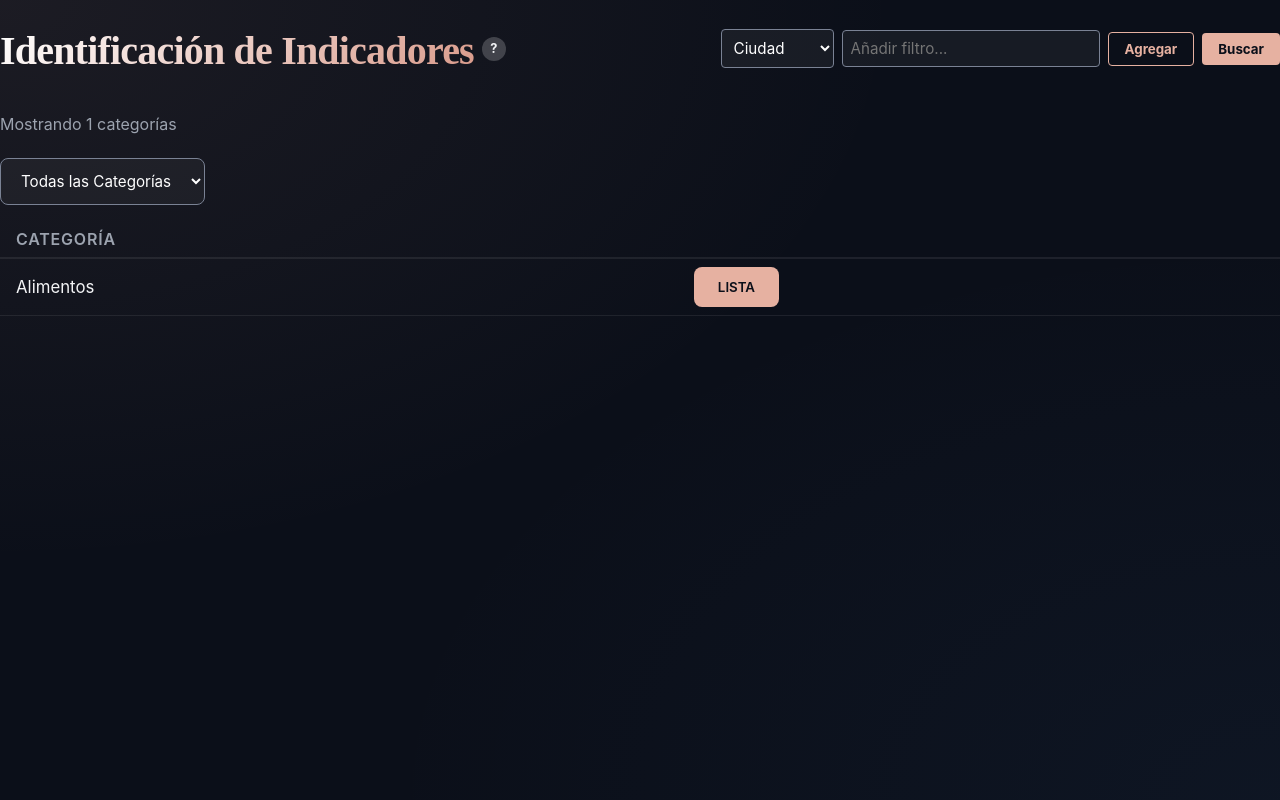
Test: Indicadores: sigla en vez de número de registro › el botón muestra la sigla y no el número, y abre los detalles sin consultas
The width and height of the screenshot is (1280, 800).
What coordinates should you click on to do the following:
click the button "LISTA"
I would click on:
 (736, 287)
Its box is [694,267,779,307].
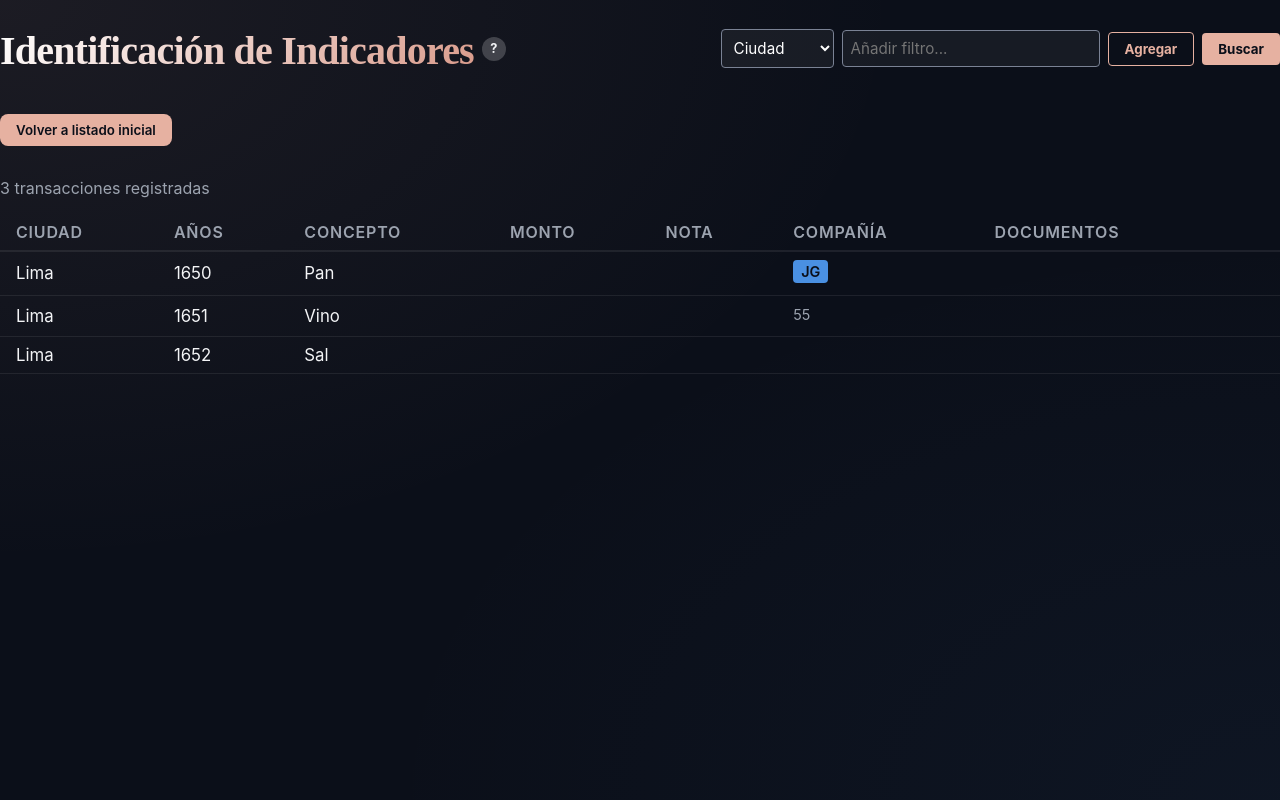
What coordinates should you click on to do the following:
click the button "JG"
I would click on:
 (811, 272)
Its box is [793,260,828,283].
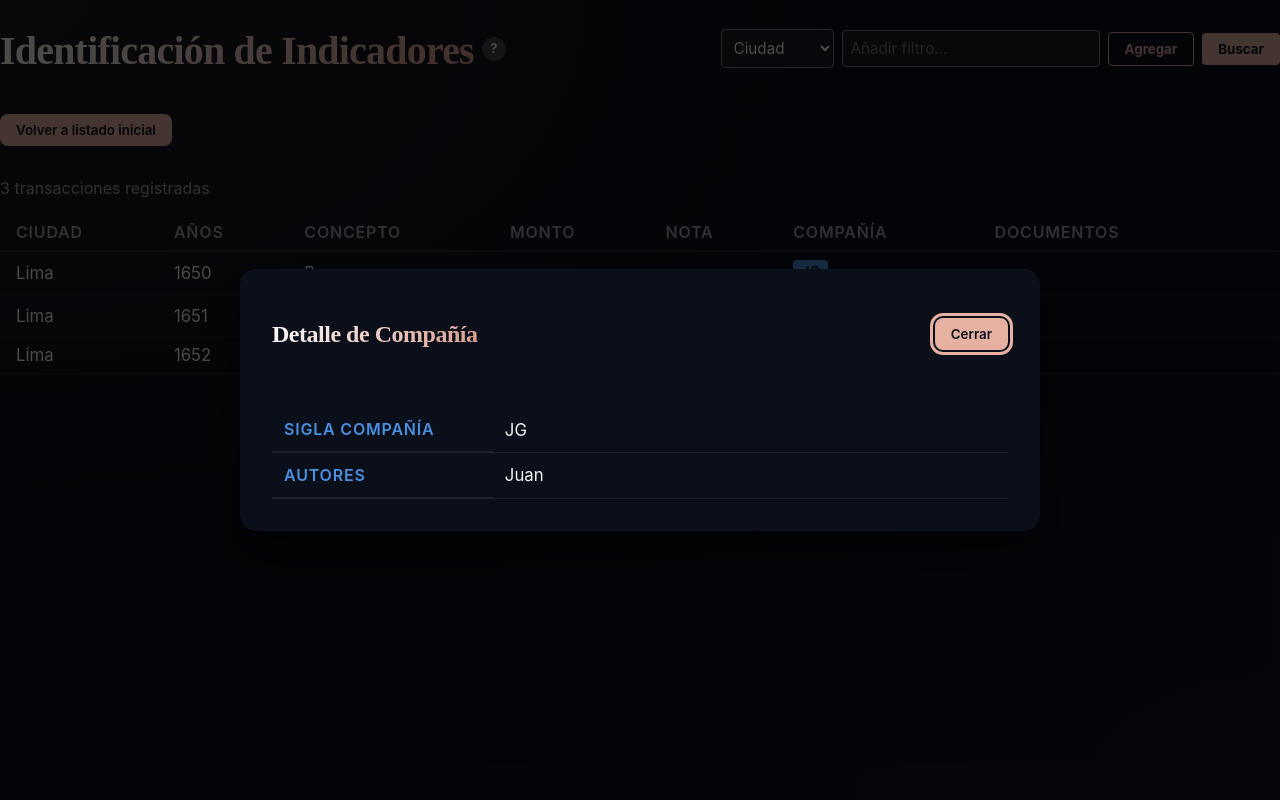
Expected: the heading "Detalle de Compañía" is shown, [272,320,478,348]
Expected: the text "Juan" is shown, [493,452,1008,498]
